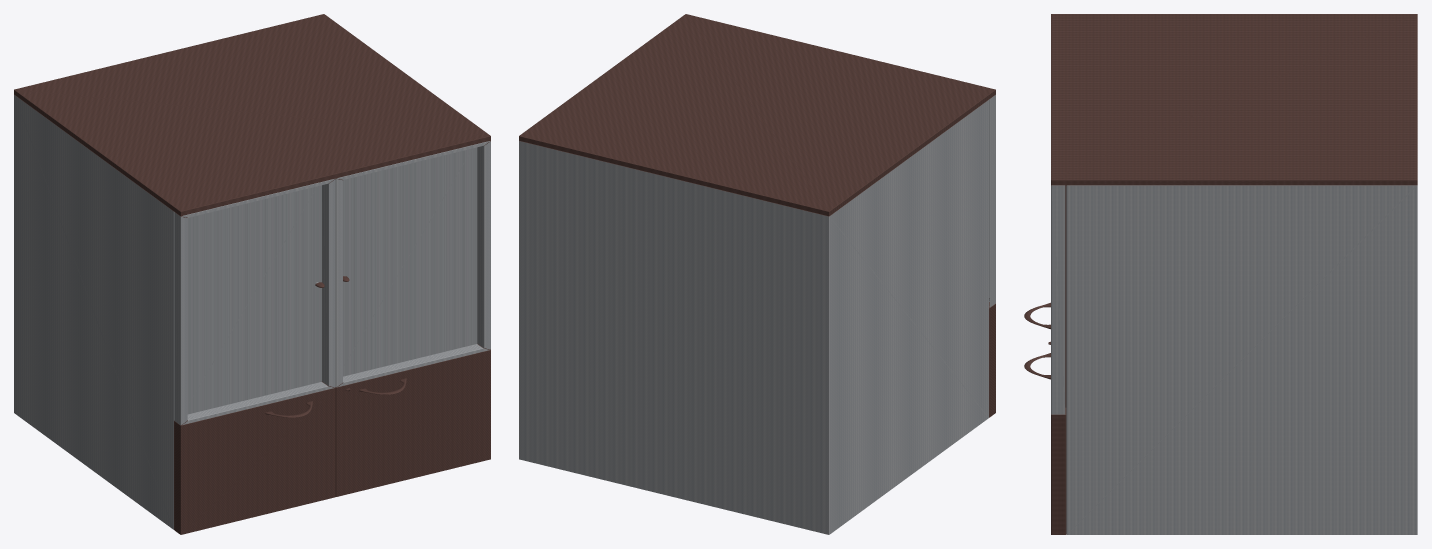
Rendered from closet.obj.
3 renders of one model, left to right at view 1: azimuth 30°, elevation 25°; view 2: azimuth 150°, elevation 25°; view 3: azimuth 270°, elevation 25°, orthographic. The views are drawn at different scales.
Parts seen in each view (by area): view 1: Mebel__Flash.002; view 2: Mebel__Flash.002; view 3: Mebel__Flash.002.
Boxes of the visible parts, x1,y1,x2,y2 form: Mebel__Flash.002: (14,14,490,534); Mebel__Flash.002: (519,14,995,534); Mebel__Flash.002: (1024,14,1417,534).
Bounding box in the file's own units: 0.5 × 0.5 × 0.5.
